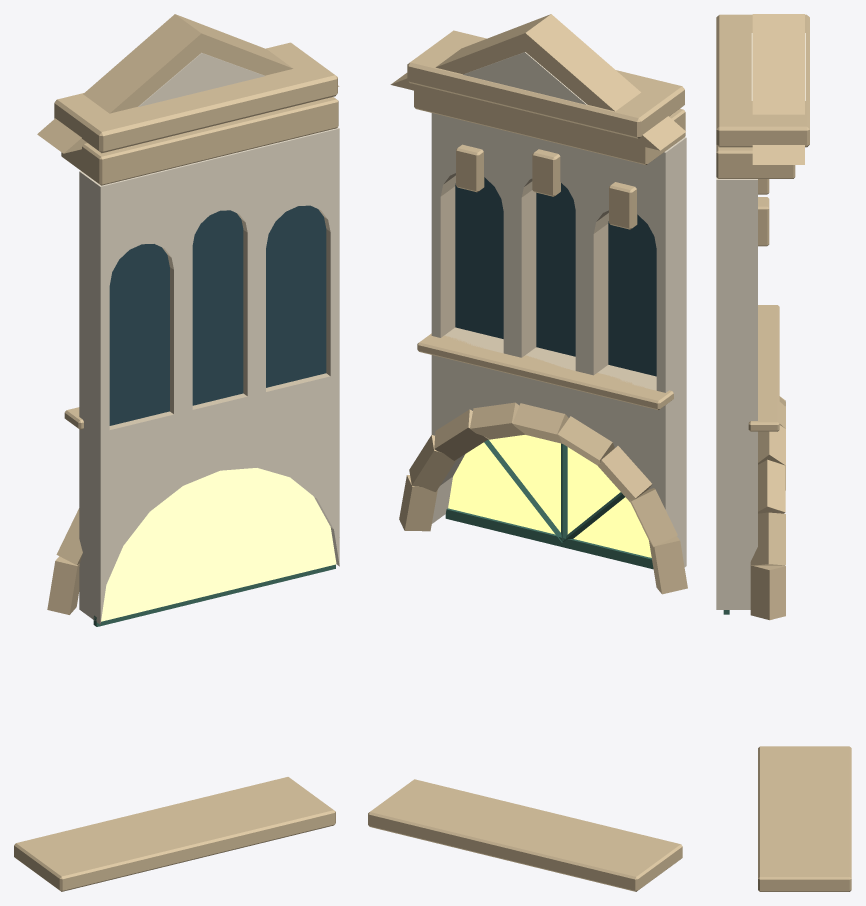
The model's file is lib_entrance.glb.
3 views of the same model, side by side, from view 1: azimuth 30°, elevation 25°; view 2: azimuth 150°, elevation 25°; view 3: azimuth 270°, elevation 25° (orthographic). The views are drawn at different scales.
Visible parts, largest first — view 1: entrance; view 2: entrance; view 3: entrance.
Part boxes in pixels (x1,y1,x2,y2): entrance: [14, 14, 339, 891]; entrance: [368, 14, 687, 891]; entrance: [716, 14, 851, 891].
Bounding box in the file's own units: 3.19 × 8.6 × 1.3.
